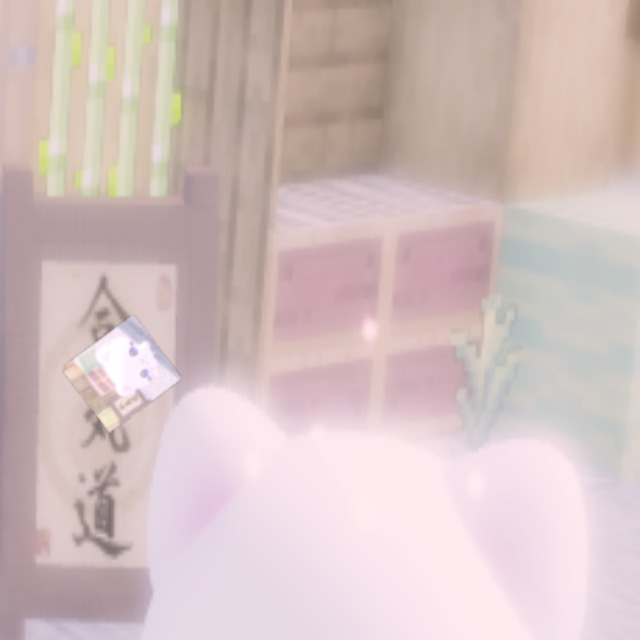urso_branco: (61, 314, 182, 433)
